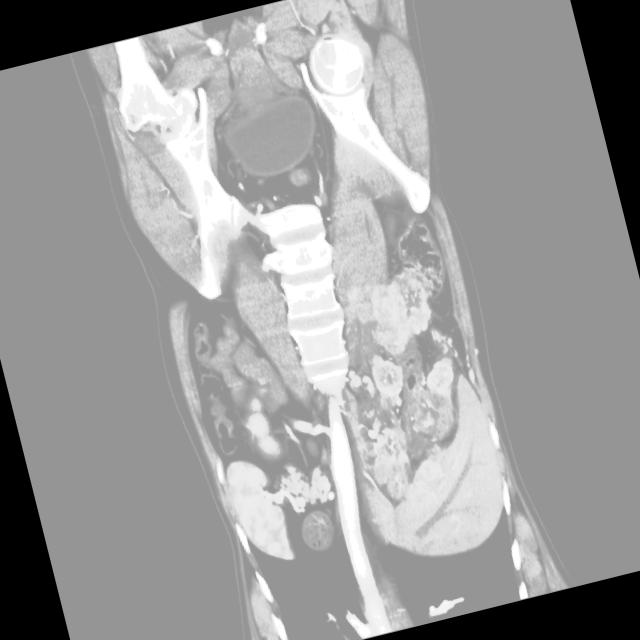TUMOR: (118, 120, 523, 442)
